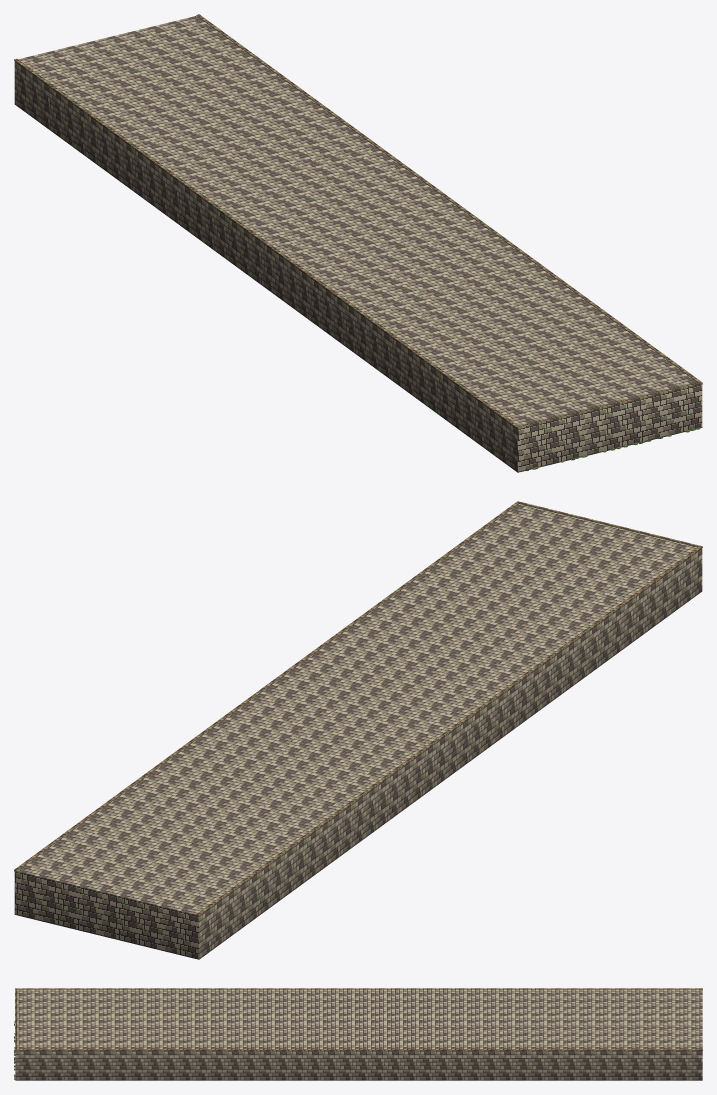
Rendered from scene_wall_w.glb.
3 views of the same model, one above another, from view 1: azimuth 30°, elevation 25°; view 2: azimuth 150°, elevation 25°; view 3: azimuth 270°, elevation 25° (orthographic). The views are drawn at different scales.
Visible parts, largest first — view 1: scene_wall_w; view 2: scene_wall_w; view 3: scene_wall_w.
Part boxes in pixels (bbox=[...]): scene_wall_w: bbox=[14, 14, 702, 472]; scene_wall_w: bbox=[14, 501, 702, 959]; scene_wall_w: bbox=[14, 988, 702, 1080].
Size of the model in its own units: 21.9 by 5.17 by 103.
Materials: 2 (1 with a texture image).
